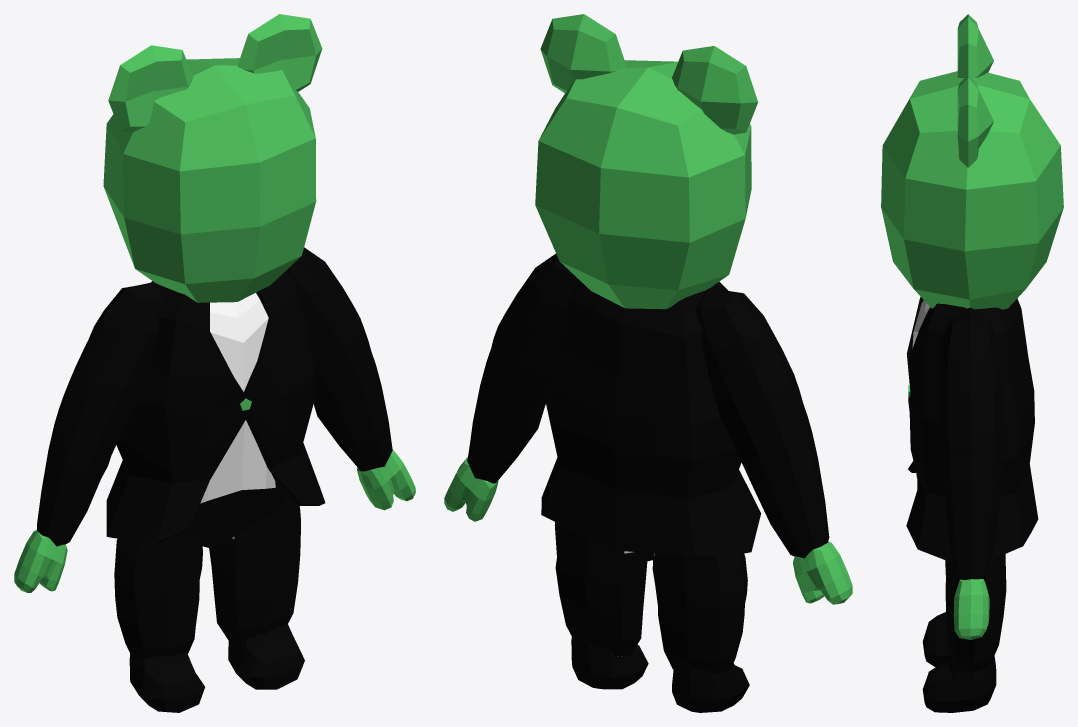
Rendered from Bouncer.fbx.
3 views of the same model, side by side, from view 1: azimuth 30°, elevation 25°; view 2: azimuth 150°, elevation 25°; view 3: azimuth 270°, elevation 25° (orthographic). The views are drawn at different scales.
Visible parts, largest first — view 1: Bouncer; view 2: Bouncer; view 3: Bouncer.
Part boxes in pixels (left/top/right/bottom): Bouncer: left=14, top=14, right=415, bottom=712; Bouncer: left=444, top=14, right=852, bottom=712; Bouncer: left=881, top=14, right=1063, bottom=712.
Bounding box in the file's own units: 216 × 344 × 88.94.
